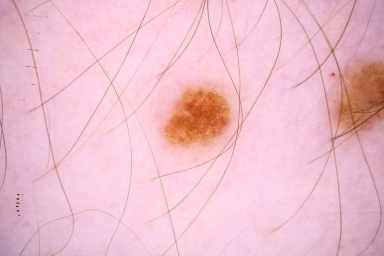melanoma: (164, 88, 232, 146), (335, 64, 384, 133)
